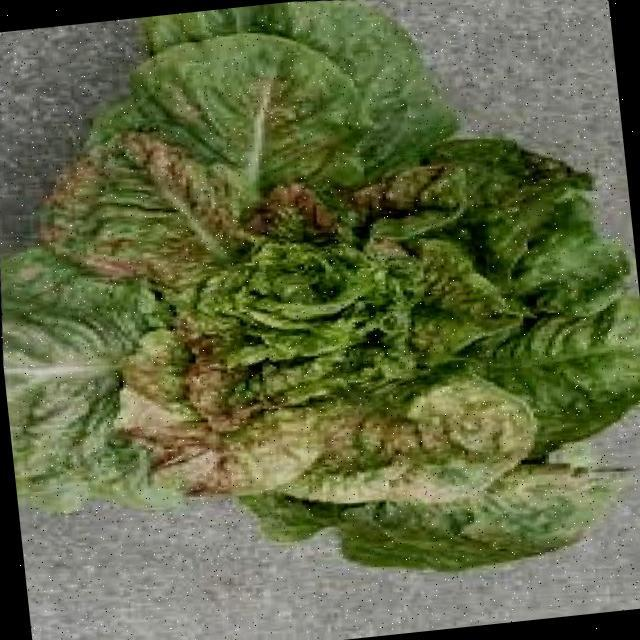Lettuce Mosaic Virus: (54, 118, 559, 533)
